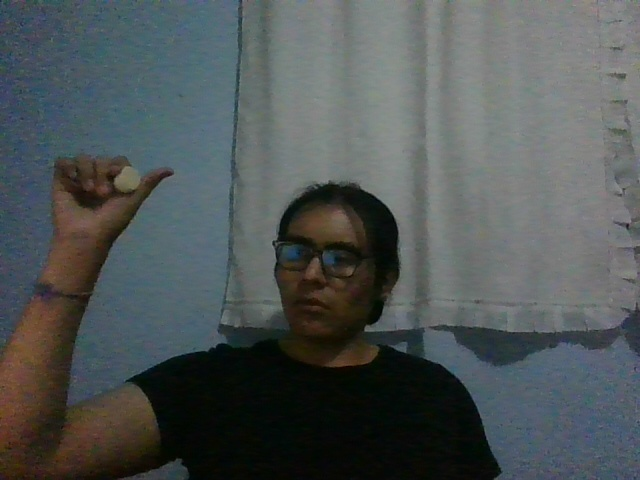goma: (113, 166, 140, 193)
